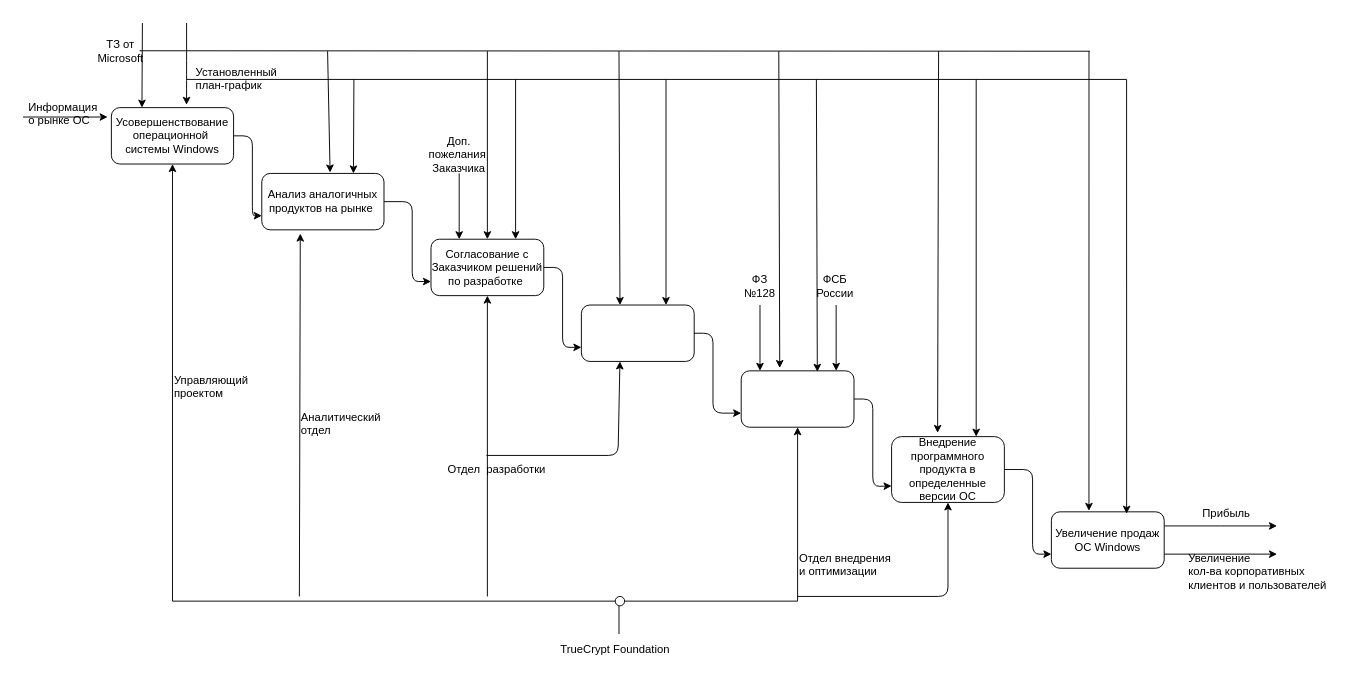
Image size: 1363x676. Some labels were removed from this diagram. Each missing label, with the box of its shape:
Оптимизация и сертификация для российского рынка: (740, 370, 854, 427)
Разработка утилиты для шифрования: (580, 304, 694, 361)
